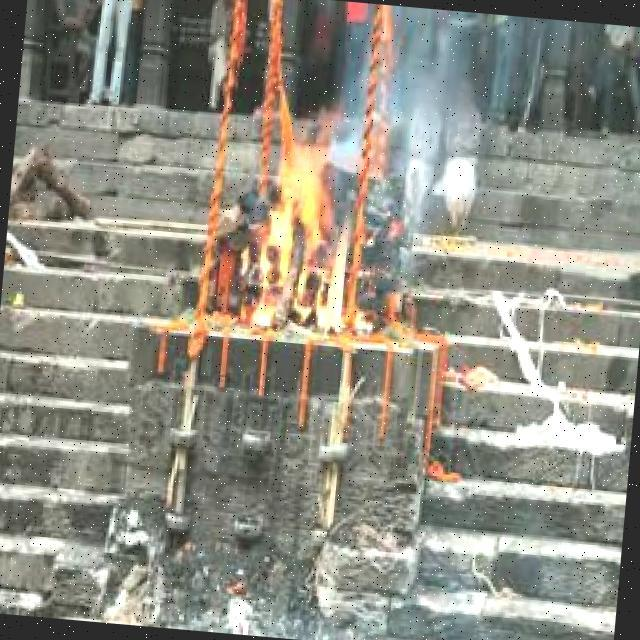Fire: (252, 103, 369, 335)
